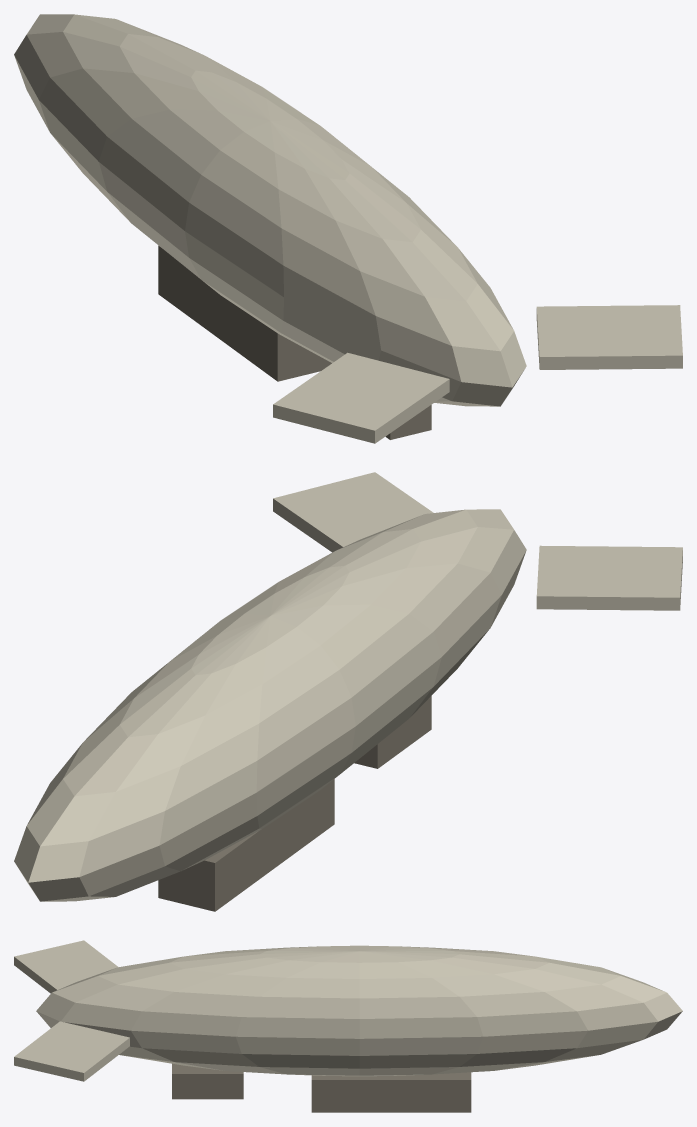
The model's file is zeppelin.glb.
3 renders of one model, top to bottom at view 1: azimuth 30°, elevation 25°; view 2: azimuth 150°, elevation 25°; view 3: azimuth 270°, elevation 25°, orthographic. The views are drawn at different scales.
Parts seen in each view (by area): view 1: zeppelin; view 2: zeppelin; view 3: zeppelin.
Boxes of the visible parts, x1=… form: zeppelin: x1=14, y1=14, x2=682, y2=443; zeppelin: x1=14, y1=472, x2=682, y2=911; zeppelin: x1=14, y1=940, x2=682, y2=1112.
Bounding box in the file's own units: 3.93 × 2.1 × 8.38.
